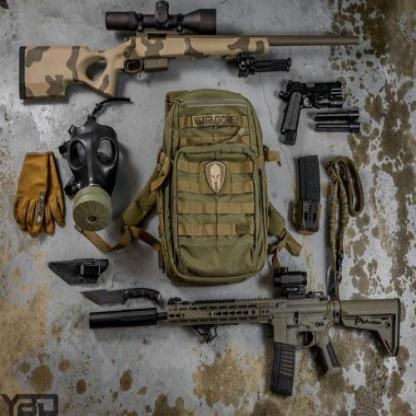Gun: (89, 264, 402, 399), (18, 0, 360, 100)
Knife: (80, 286, 167, 312)
Pistol: (278, 76, 347, 146)
